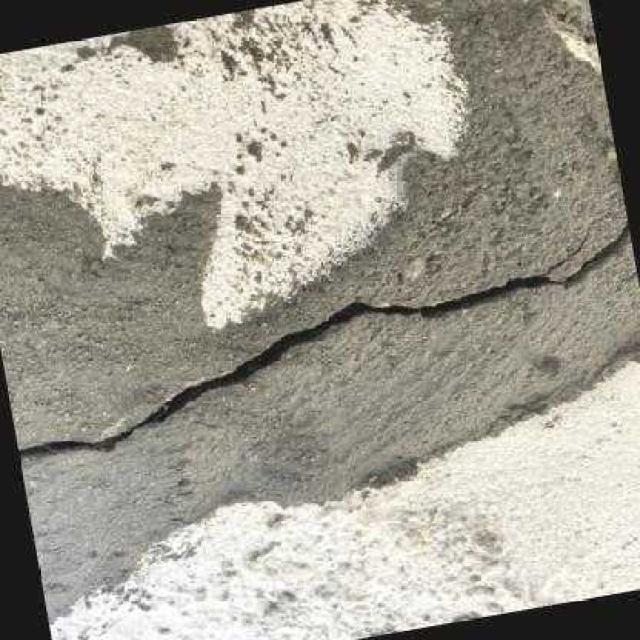D00: (17, 209, 632, 463)
